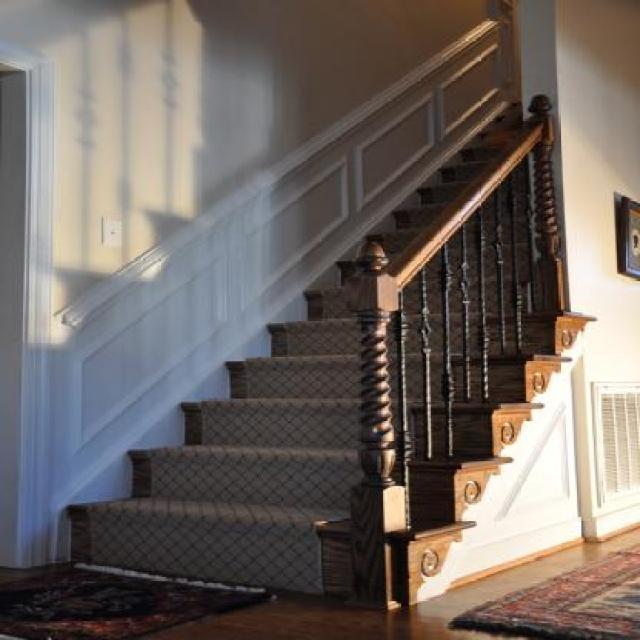stair: (58, 98, 560, 592)
